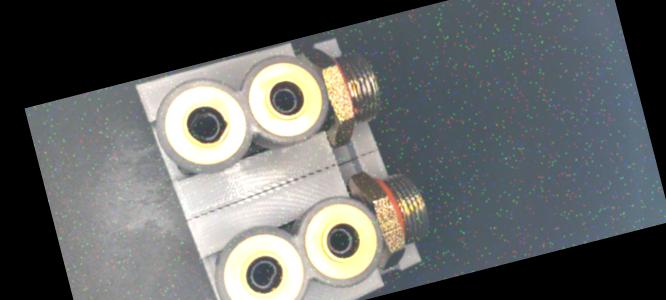off-centered: (242, 253, 286, 295), (183, 106, 226, 146)
